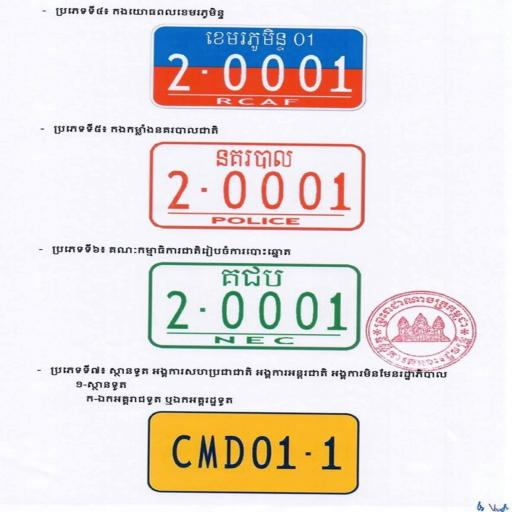Plate Number: (141, 264, 366, 352), (147, 144, 366, 232), (147, 411, 361, 497), (156, 25, 367, 111)
